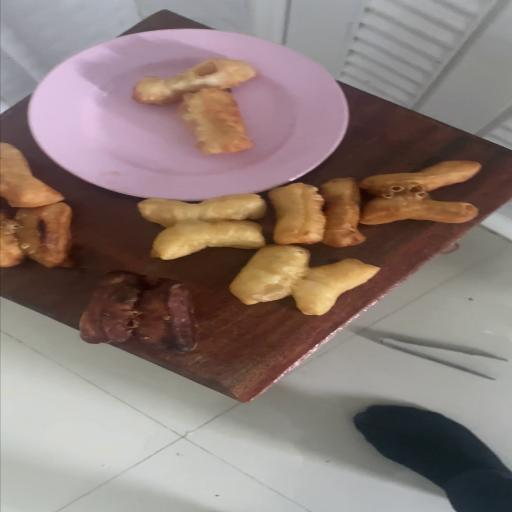street_burnt_defect: (77, 272, 196, 353)
street_golden_good: (137, 193, 265, 260)
